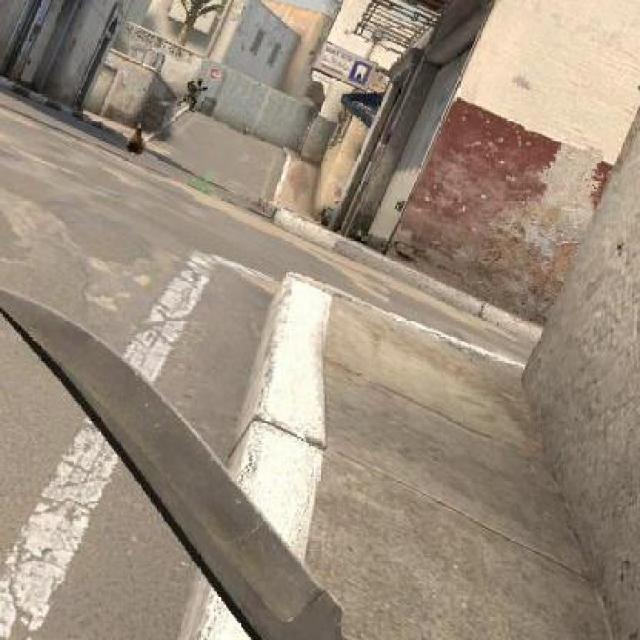CT-Body: (196, 76, 204, 86)
CT-Head: (182, 72, 204, 114)
